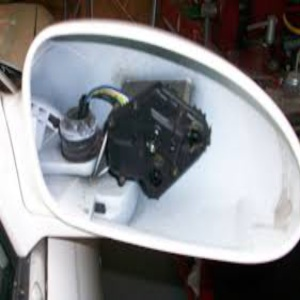side_mirror: (17, 16, 300, 265)
